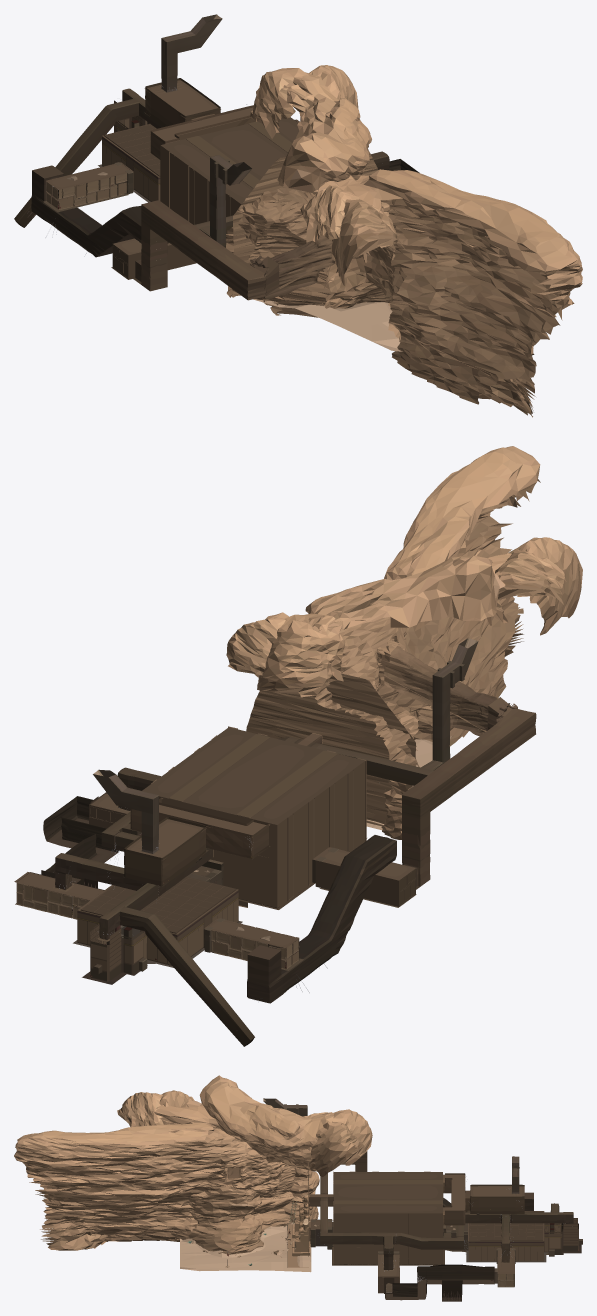
Rendered from narrowTombs.glb.
The picture shows the model from 3 angles, top to bottom: view 1: azimuth 30°, elevation 25°; view 2: azimuth 150°, elevation 25°; view 3: azimuth 270°, elevation 25°; orthographic projection. The views are drawn at different scales.
Visible parts, largest first — view 1: bigBigRock, Mball.001, Plane.023, tunnel_, bigBigRock.015, Plane.003, Plane, Plane.012, Mball.081, bigBigRock.014, Plane.193, bigBigRock.016 (+11 smaller); view 2: bigBigRock, Plane.003, Plane.023, Mball.026, tunnel_, Mball.001, Plane.096, bigBigRock.014, Plane.012, Mball.081, Plane.270, Plane.011 (+14 smaller); view 3: bigBigRock, Plane.003, Plane.096, Plane.023, Plane, tunnel_.001, bigBigRock.004, Plane.012, Plane.011, bigBigRock.015, bigBigRock.014, Mball.008 (+12 smaller).
Part boxes in pixels (x1,y1,x2,y2): bigBigRock: (225,74,582,417); Mball.001: (135,200,279,300); Plane.023: (161,117,299,204); tunnel_: (31,170,171,257); bigBigRock.015: (331,199,406,285); Plane.003: (160,145,241,237); Plane: (253,299,402,351); Plane.012: (145,78,255,159); Mball.081: (250,202,389,299); bigBigRock.014: (250,68,315,138); Plane.193: (14,99,138,227); bigBigRock.016: (300,185,370,263); bigBigRock: (282,446,540,839); Plane.003: (159,761,365,907); Plane.023: (142,727,364,824); Mball.026: (246,673,416,826); tunnel_: (247,835,415,1003); Mball.001: (402,697,536,886); Plane.096: (14,736,302,941); bigBigRock.014: (257,615,344,697); Plane.012: (124,796,268,886); Mball.081: (376,635,517,736); Plane.270: (307,638,478,785); Plane.011: (77,876,238,934); bigBigRock: (14,1075,338,1254); Plane.003: (332,1213,442,1264); Plane.096: (320,1197,573,1273); Plane.023: (334,1172,442,1213); Plane: (180,1225,311,1272); tunnel_.001: (385,1264,494,1301); bigBigRock.004: (307,1121,365,1176); Plane.012: (443,1173,524,1225); Plane.011: (468,1211,544,1241); bigBigRock.015: (117,1092,168,1126); bigBigRock.014: (308,1109,372,1165); Mball.008: (378,1236,399,1276).
Size of what is drawn, in the model's own units: 51.57 by 41.47 by 123.
